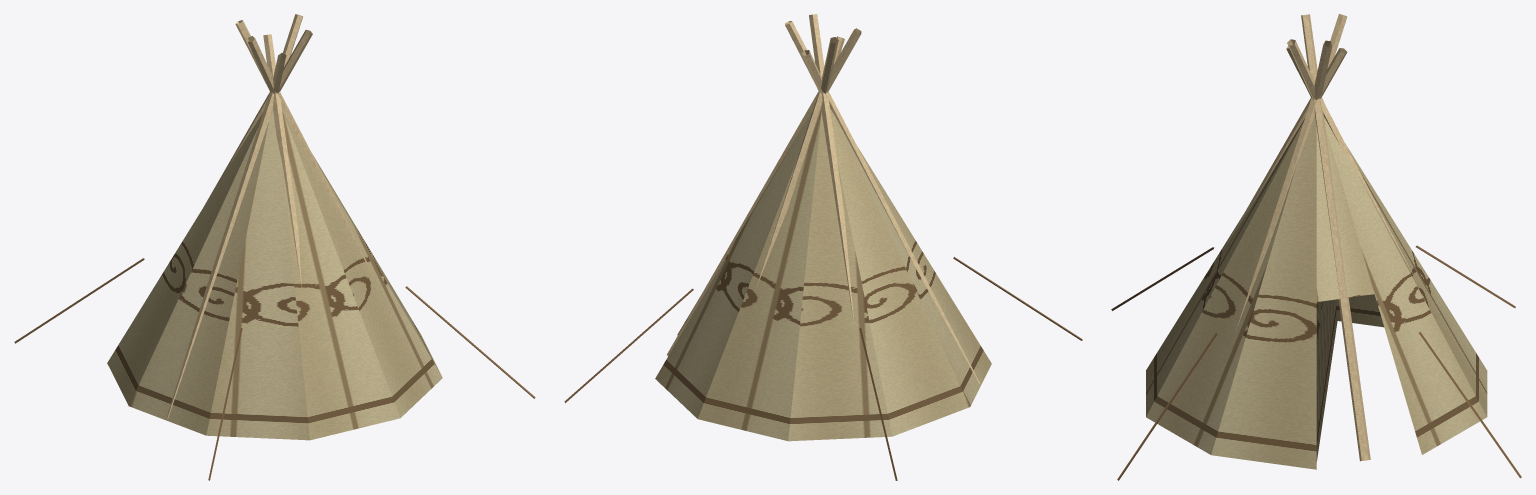
File: teepee.glb
3 views of the same model, side by side, from view 1: azimuth 30°, elevation 25°; view 2: azimuth 150°, elevation 25°; view 3: azimuth 270°, elevation 25° (orthographic). The views are drawn at different scales.
Parts seen in each view (by area): view 1: teepee; view 2: teepee; view 3: teepee.
Boxes of the visible parts, left/top/right/bottom form: teepee: left=14, top=14, right=535, bottom=480; teepee: left=564, top=14, right=1082, bottom=480; teepee: left=1111, top=14, right=1521, bottom=480.
Bounding box in the file's own units: 3.89 × 3.88 × 3.89.
2 materials, 2 textured.
